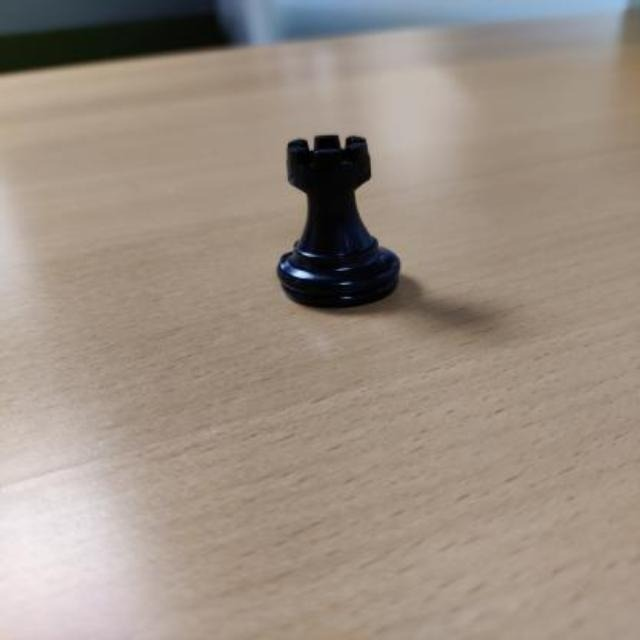black-rook: (276, 133, 402, 311)
